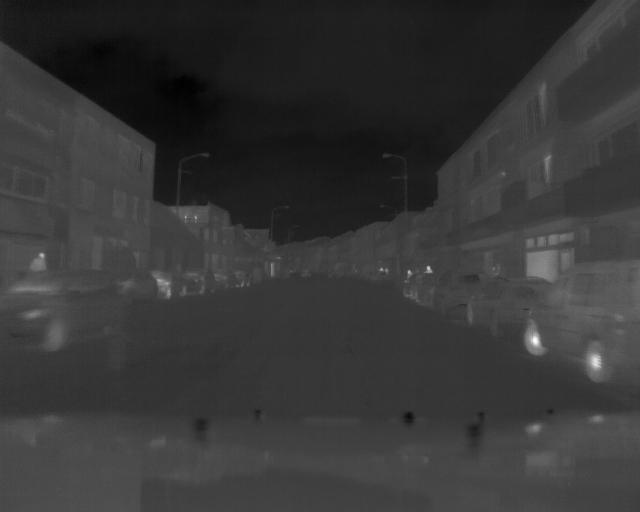car: (528, 268, 639, 384), (1, 269, 124, 352), (464, 275, 524, 338), (151, 269, 187, 301)
person: (31, 248, 47, 271)
